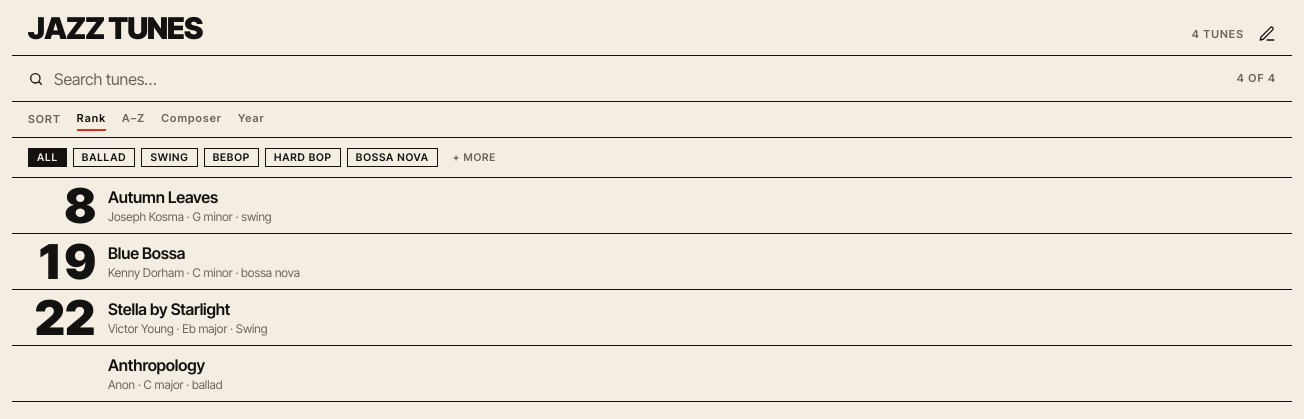
Test: TuneList › filters by composer too
In the search field with placeholder "Search tunes…": (640, 78) [54,66,1227,90], type "dorham"
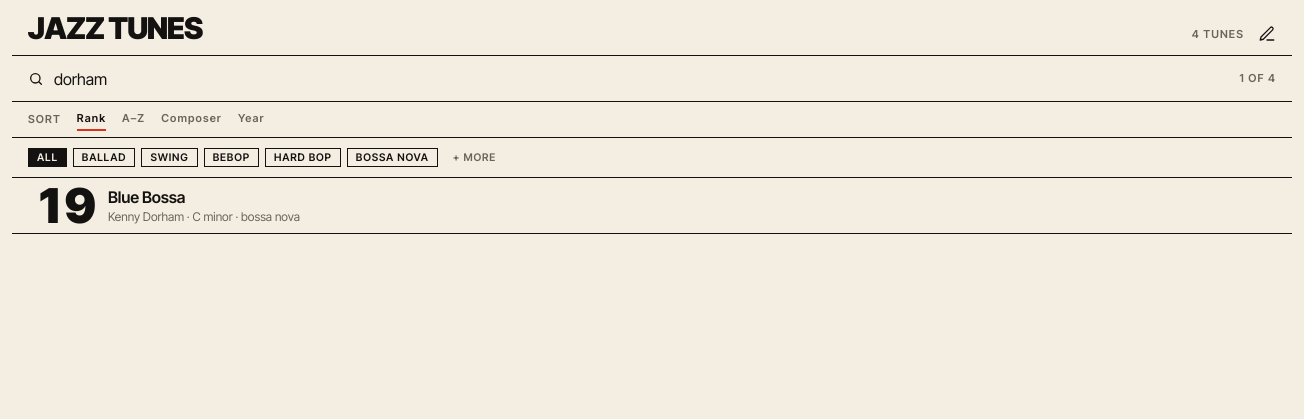
Expected: the text "Blue Bossa" is shown, [108,187,185,207]
Result: the button "Autumn Leaves" is gone
